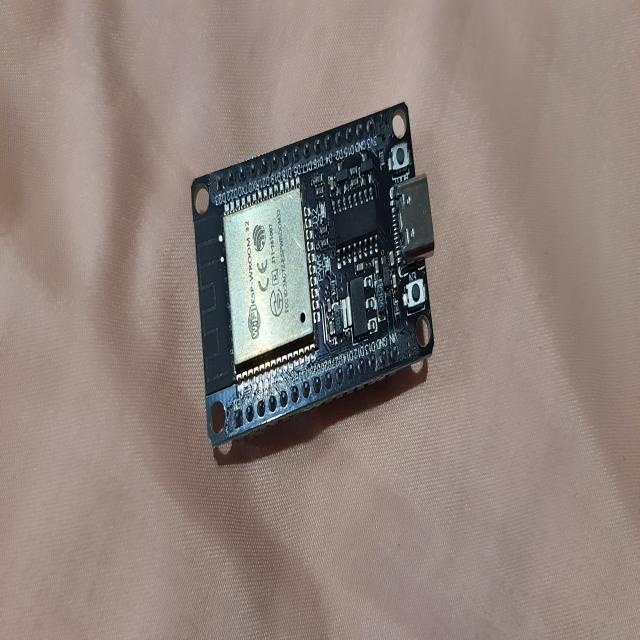ESP32: (192, 104, 435, 447)
